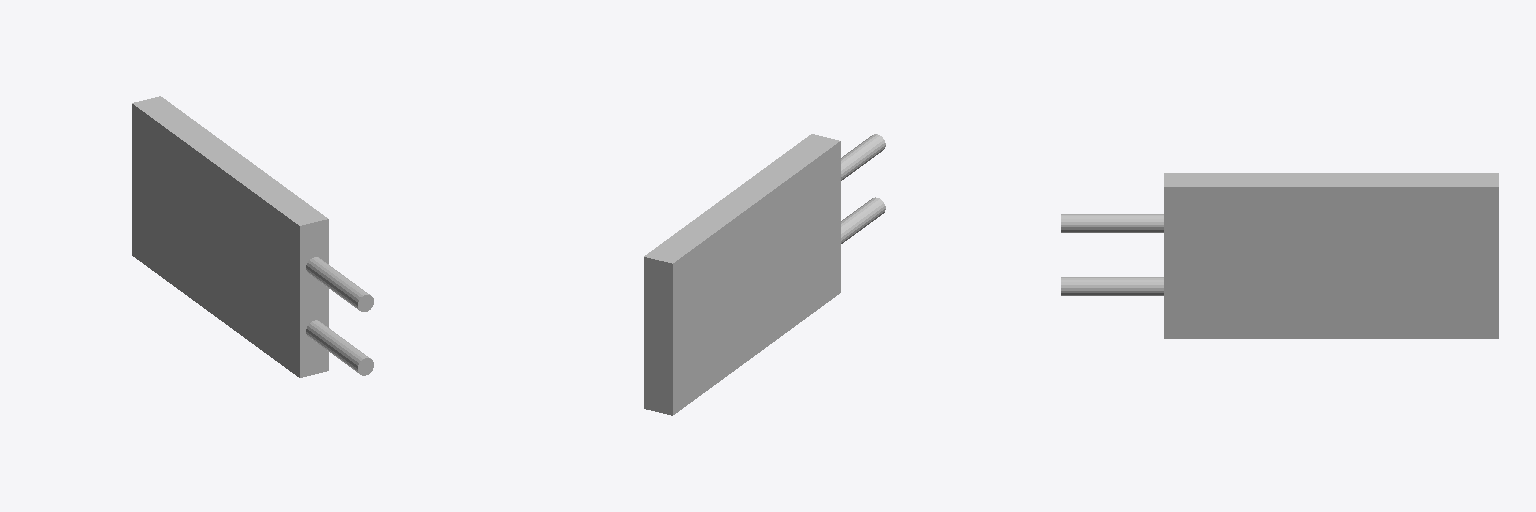
File: robotHand.obj
3 views of the same model, side by side, from view 1: azimuth 30°, elevation 25°; view 2: azimuth 150°, elevation 25°; view 3: azimuth 270°, elevation 25° (orthographic).
Visible parts, largest first — view 1: polySurface1 robotHand:pCube5, robotHand:pCube5 polySurface3, robotHand:pCube5 polySurface2; view 2: polySurface1 robotHand:pCube5, robotHand:pCube5 polySurface2, robotHand:pCube5 polySurface3; view 3: polySurface1 robotHand:pCube5, robotHand:pCube5 polySurface2, robotHand:pCube5 polySurface3.
Part boxes in pixels (x1,y1,x2,y2): polySurface1 robotHand:pCube5: (132,96,328,377); robotHand:pCube5 polySurface3: (306,320,373,375); robotHand:pCube5 polySurface2: (306,257,373,311); polySurface1 robotHand:pCube5: (644,134,840,415); robotHand:pCube5 polySurface2: (841,134,885,180); robotHand:pCube5 polySurface3: (841,197,885,243); polySurface1 robotHand:pCube5: (1164,173,1498,338); robotHand:pCube5 polySurface2: (1061,214,1163,232); robotHand:pCube5 polySurface3: (1061,277,1163,295).
Size of the model in its own units: 0.1 by 0.5 by 1.31.